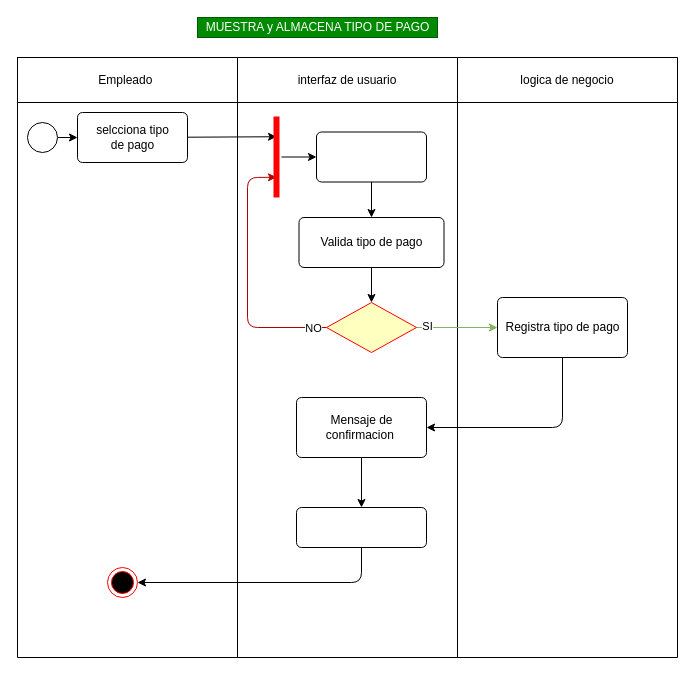
Some shapes in this 695 by 675 pixel diagram are drawn without their labels. The centre of each missing label's shape, as x and y in pixels:
"Es valido" goes at (371,327).
"Ingresa metodo de pago" goes at (371,156).
"Muestra tipo de pago" goes at (361,527).
